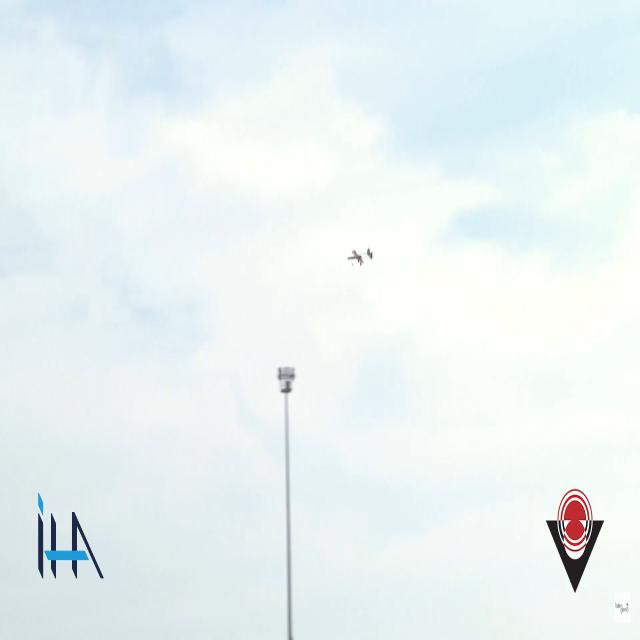iha: (347, 247, 373, 268)
